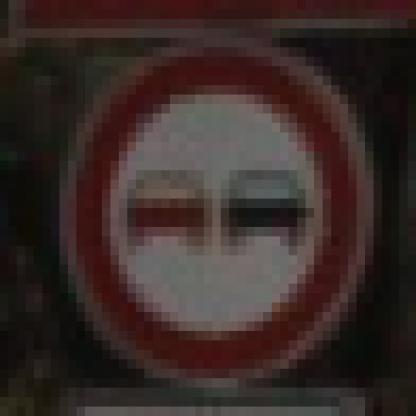No Overtaking: (52, 48, 366, 370)
